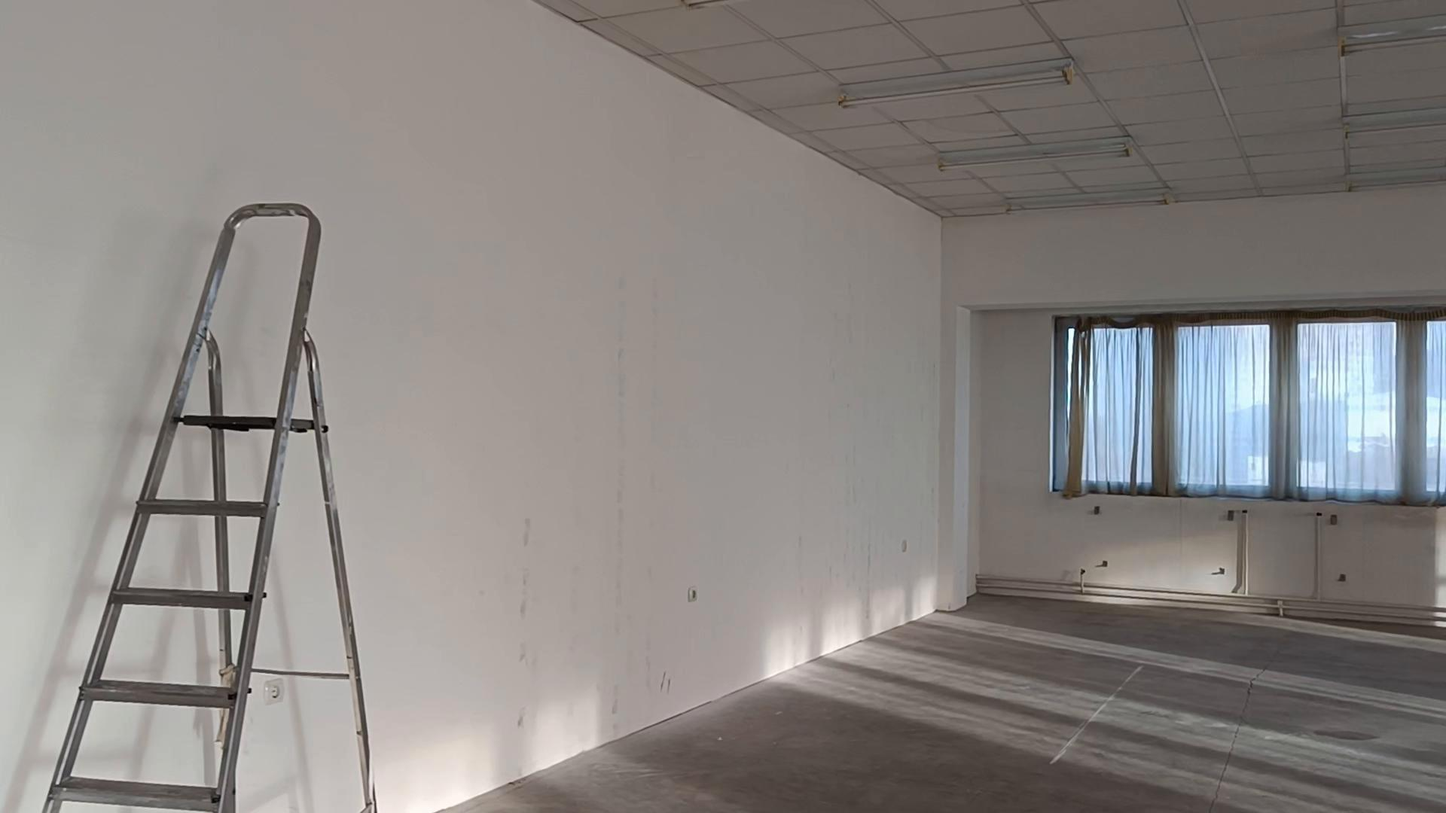ceiling: (535, 0, 1445, 216)
floor: (447, 595, 1445, 812)
wall: (0, 0, 1445, 812)
